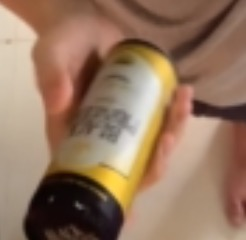blackprincess: (19, 42, 186, 240)
